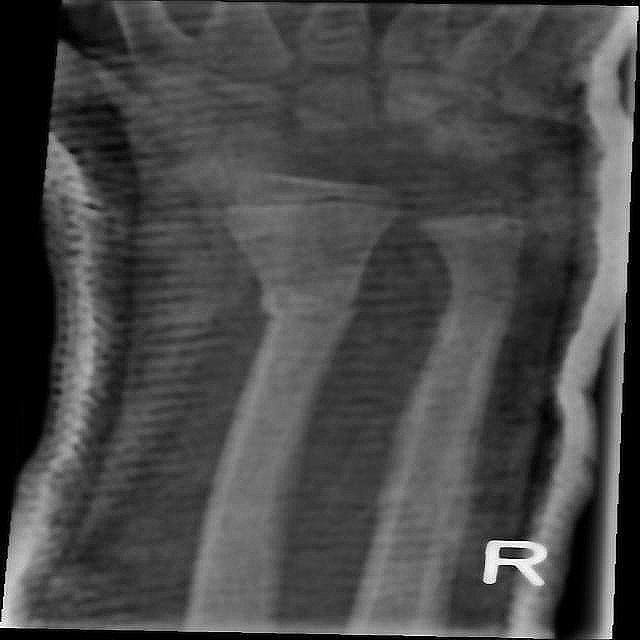bone: (253, 285, 365, 330), (444, 280, 523, 314)
